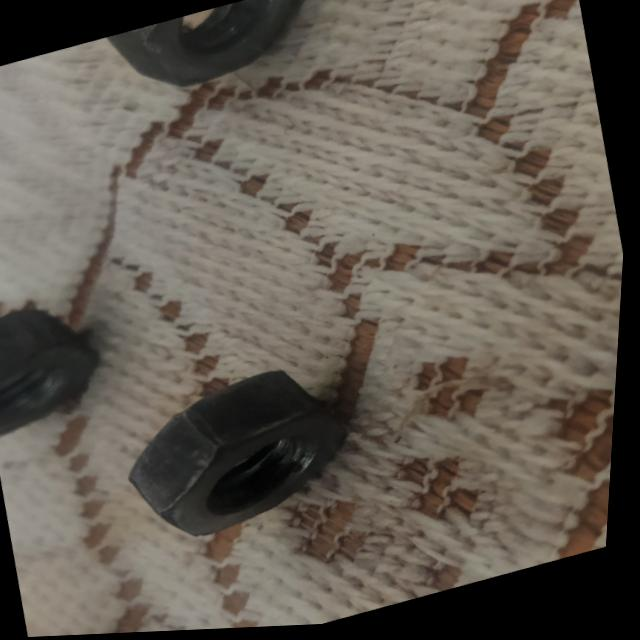disinfected nut: (136, 372, 352, 536), (106, 0, 299, 87), (0, 307, 102, 437)
